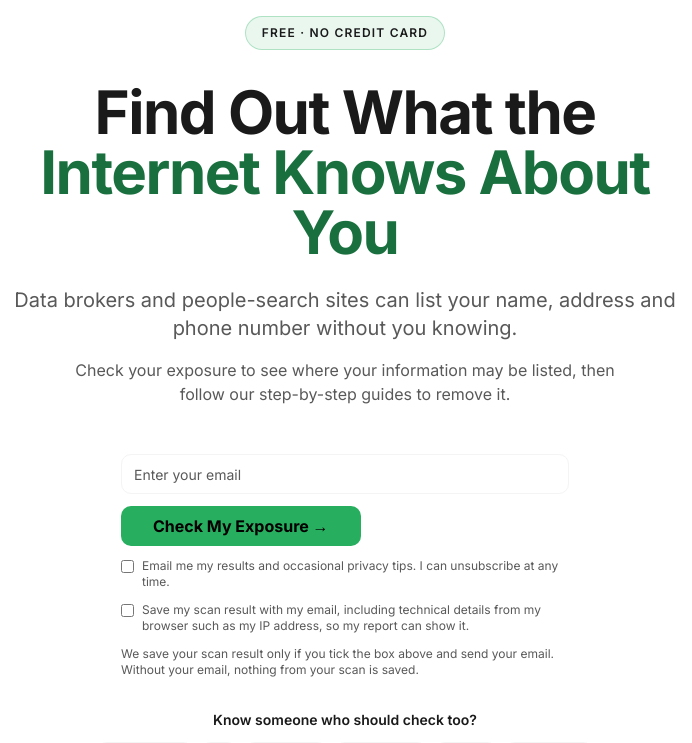
it: Scan page: save my scan result (D12) › with the box left unticked the report is still requested, but the scan is not sent or saved
Type "mpc7470+site@example.com" into the field named "Email address" at (345, 474), box [121,454,569,494]
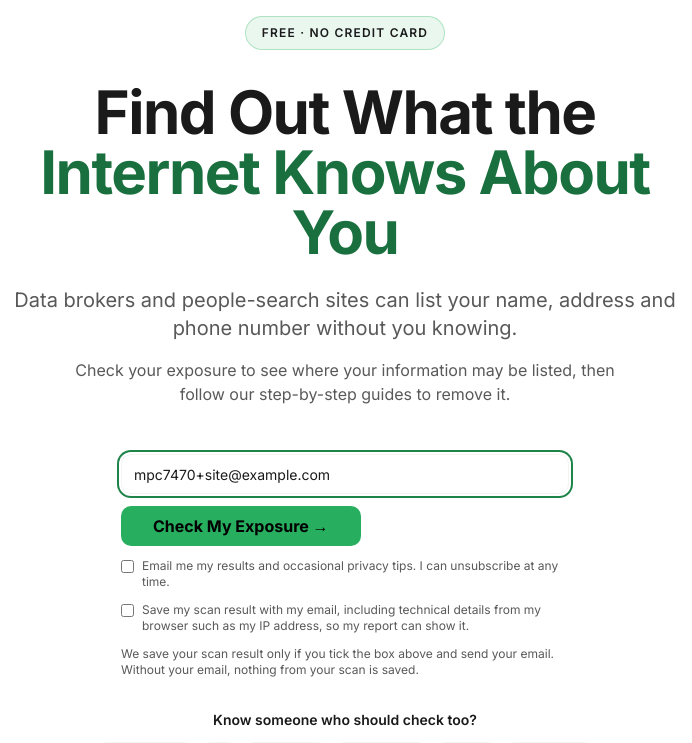
Click the checkbox labelled "Email me my results and occasional privacy tips" at (128, 566), box [121,560,134,573]
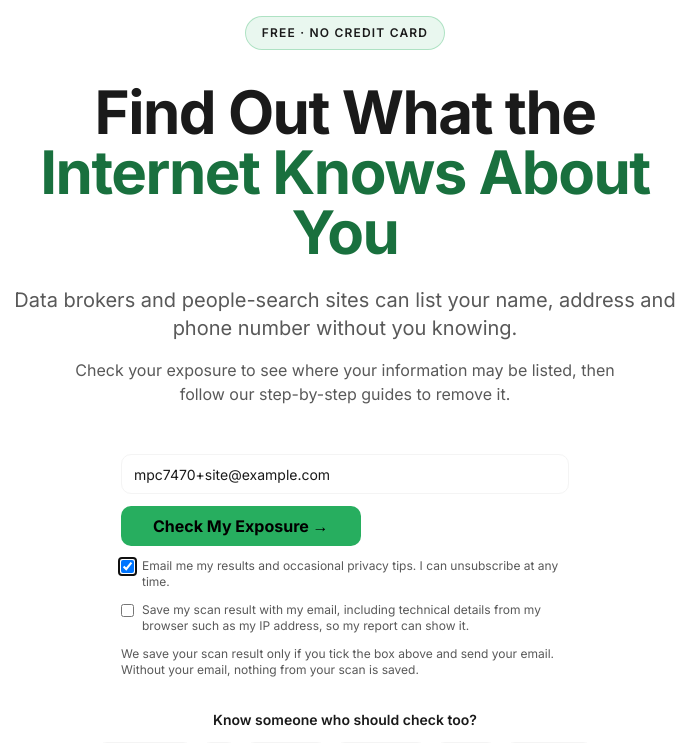
Click the button "Check My Exposure →" at (241, 526), box [121,506,361,546]
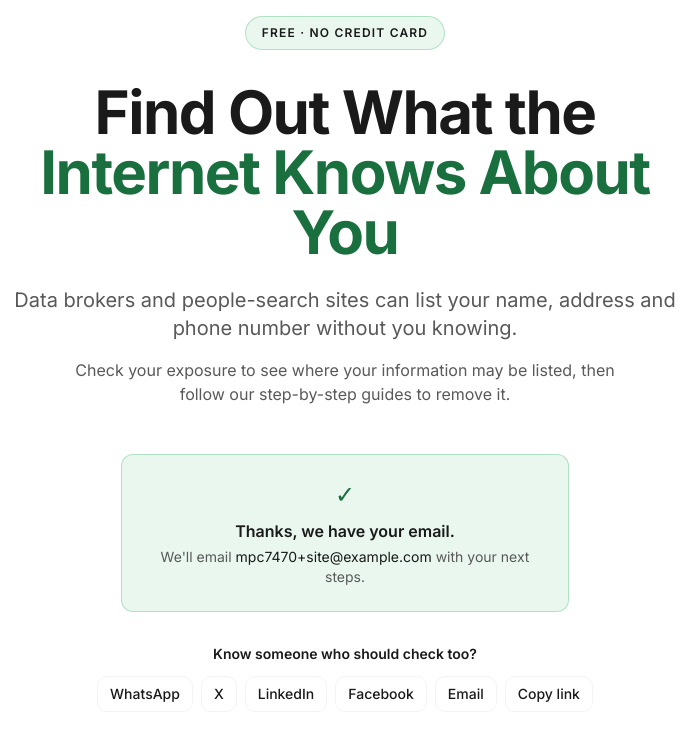
Check: the message is shown, box [121,454,569,612]
Check: the text "mpc7470+site@example.com" is shown, box [236,548,432,565]
